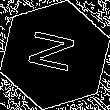N_E: (25, 29, 85, 81)
